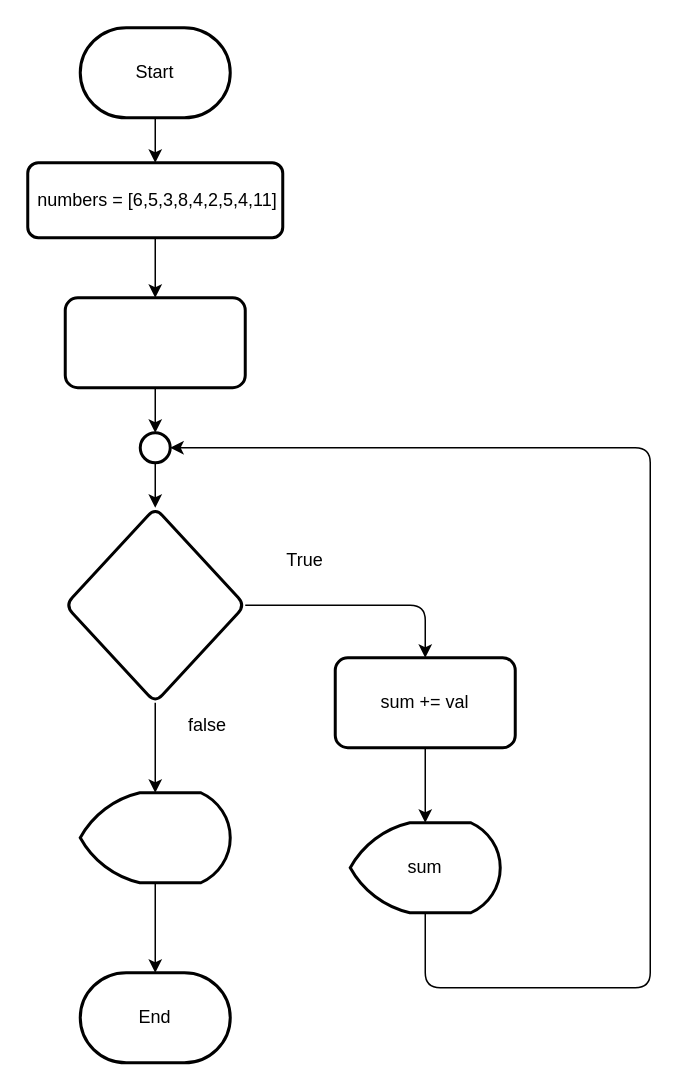
Some shapes in this 689 by 1089 pixel diagram are drawn without their labels. Each missing label, with the centre of its shape:
"'The sum is',sum" belongs at pixel 154 837.
"sum = 0" belongs at pixel 154 342.
"val in numbers" belongs at pixel 154 605.
